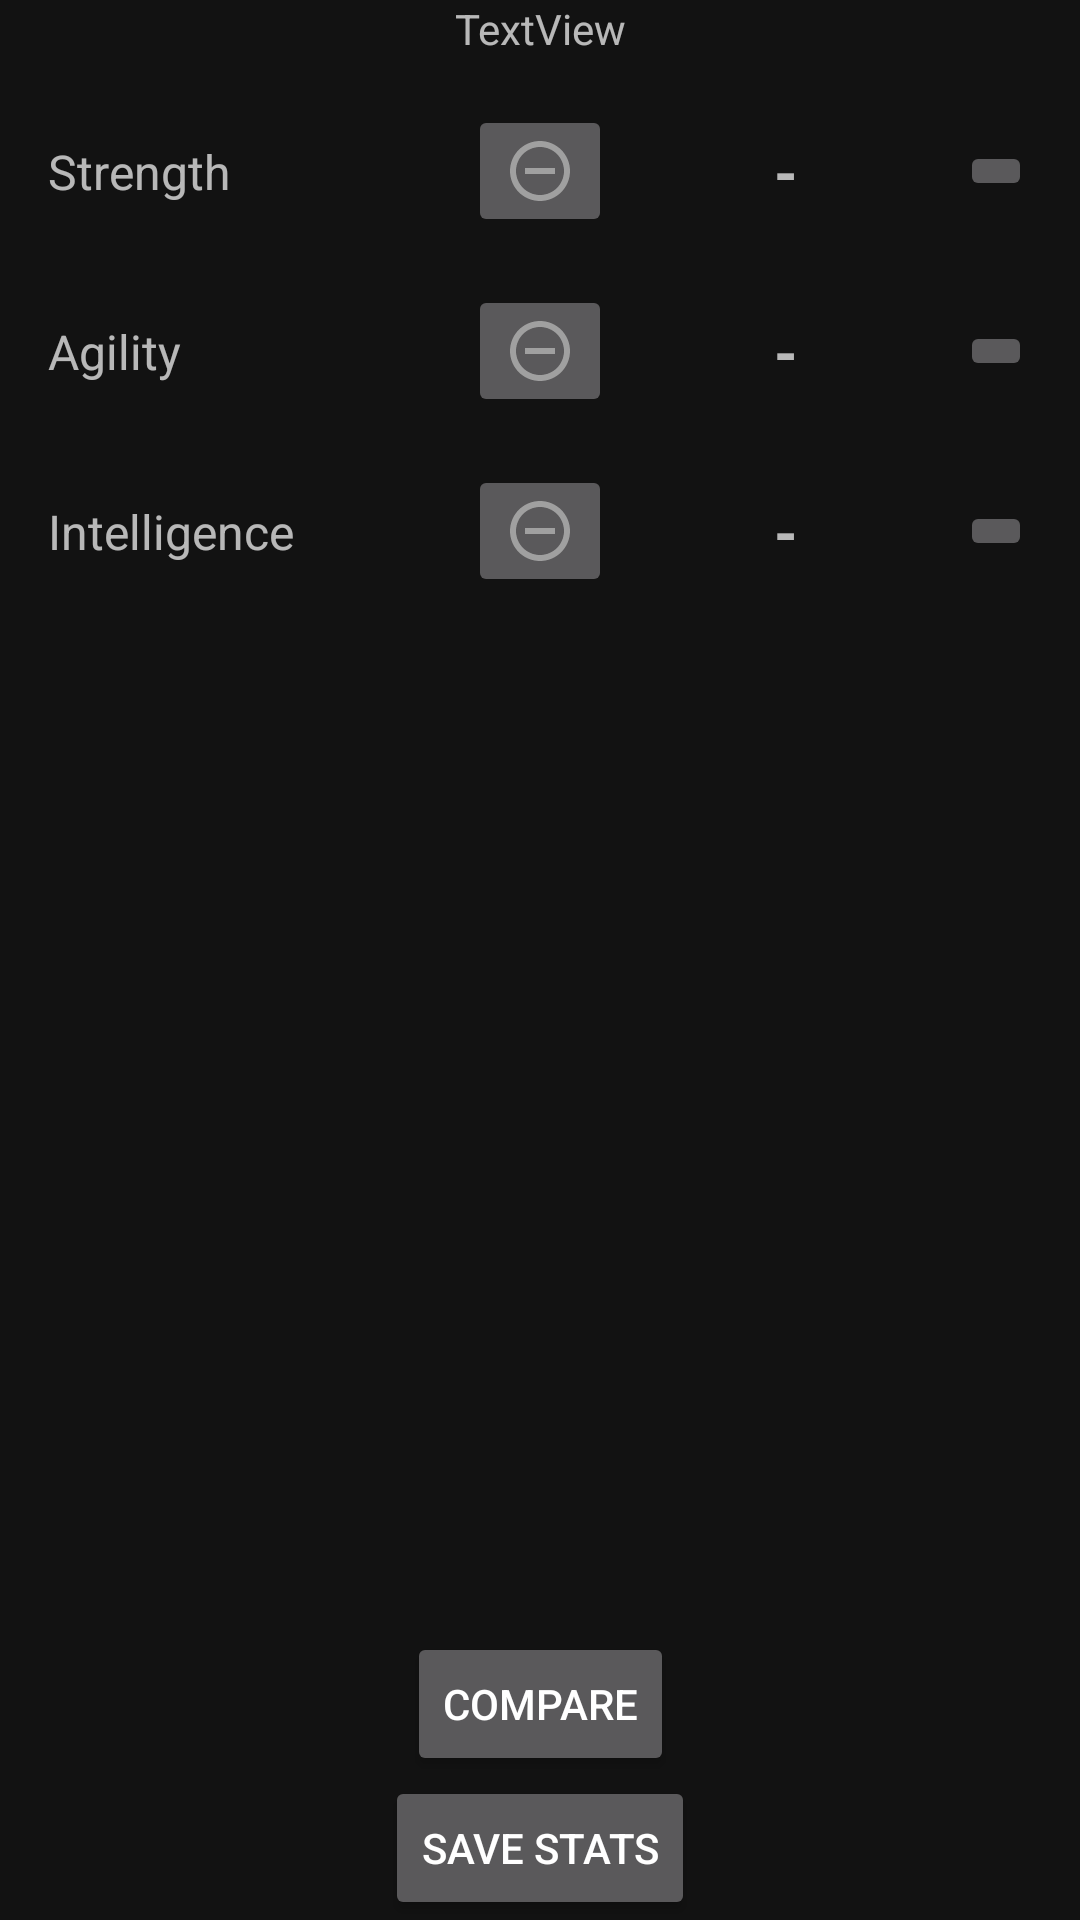

Icons on this 1080px x 1920px Android screen, each with its box as [x1=x1, y1=y1, x2=x2, y2=y2]:
remove circle: [x1=480, y1=123, x2=600, y2=219], [x1=480, y1=303, x2=600, y2=399], [x1=480, y1=483, x2=600, y2=579]
